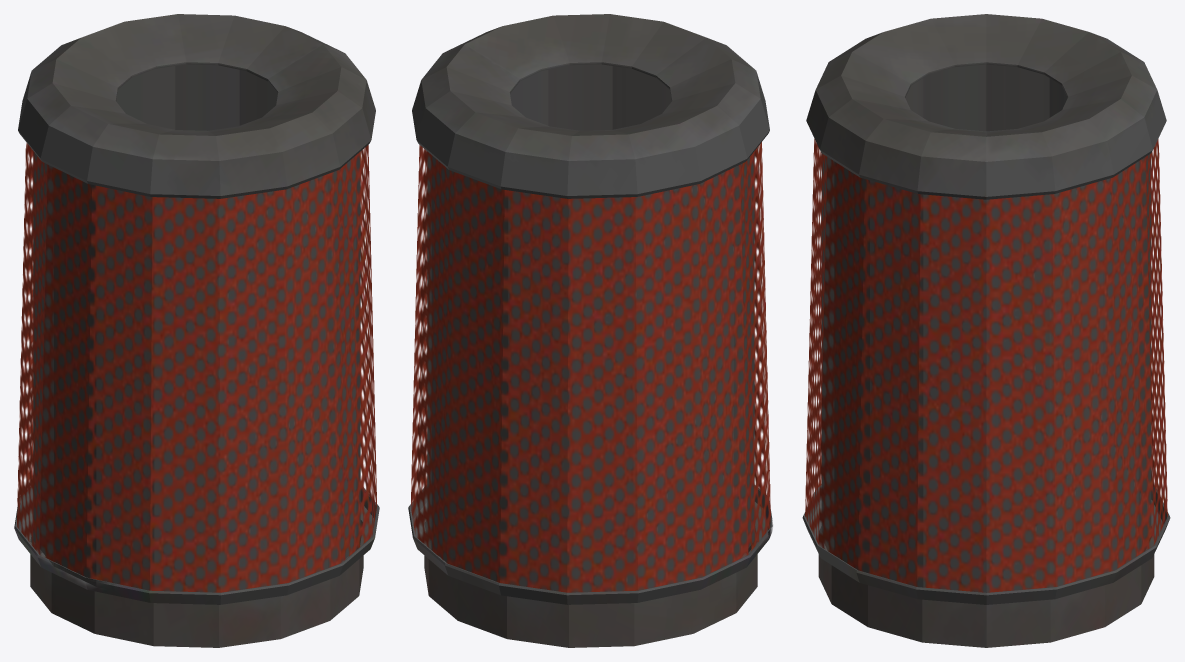
File: strProp_12.glb
3 renders of one model, left to right at view 1: azimuth 30°, elevation 25°; view 2: azimuth 150°, elevation 25°; view 3: azimuth 270°, elevation 25°, orthographic.
Visible parts, largest first — view 1: geometry_0; view 2: geometry_0; view 3: geometry_0.
Boxes of the visible parts, left/top/right/bottom form: geometry_0: left=14, top=14, right=379, bottom=647; geometry_0: left=408, top=14, right=772, bottom=647; geometry_0: left=802, top=14, right=1170, bottom=647.
Size of the model in its own units: 0.6087 by 0.9156 by 0.6087.
Materials: 1 (1 with a texture image).
